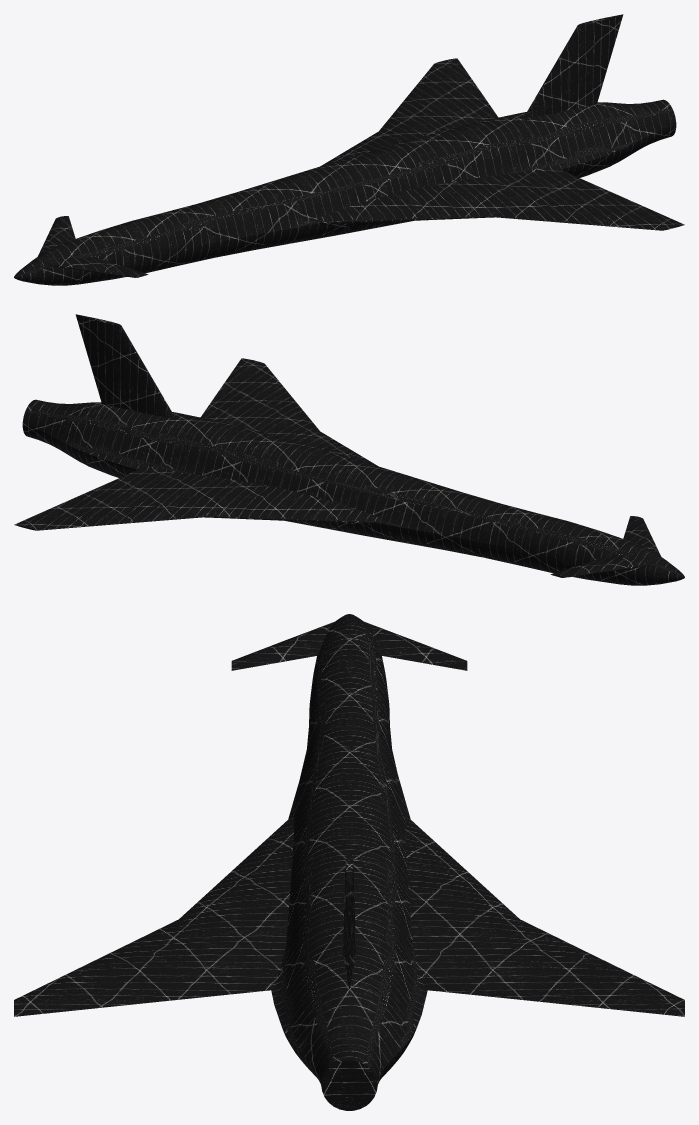
The model's file is aero_body.glb.
The picture shows the model from 3 angles, top to bottom: view 1: azimuth 30°, elevation 25°; view 2: azimuth 150°, elevation 25°; view 3: azimuth 270°, elevation 25°; orthographic projection. The views are drawn at different scales.
Visible parts, largest first — view 1: aero body.SLDPRT; view 2: aero body.SLDPRT; view 3: aero body.SLDPRT.
Part boxes in pixels (x1,y1,x2,y2): aero body.SLDPRT: (14,14,684,285); aero body.SLDPRT: (14,314,684,585); aero body.SLDPRT: (14,614,684,1110).
Bounding box in the file's own units: 1.68 × 0.3732 × 1.02.
Materials: 1 (1 with a texture image).
